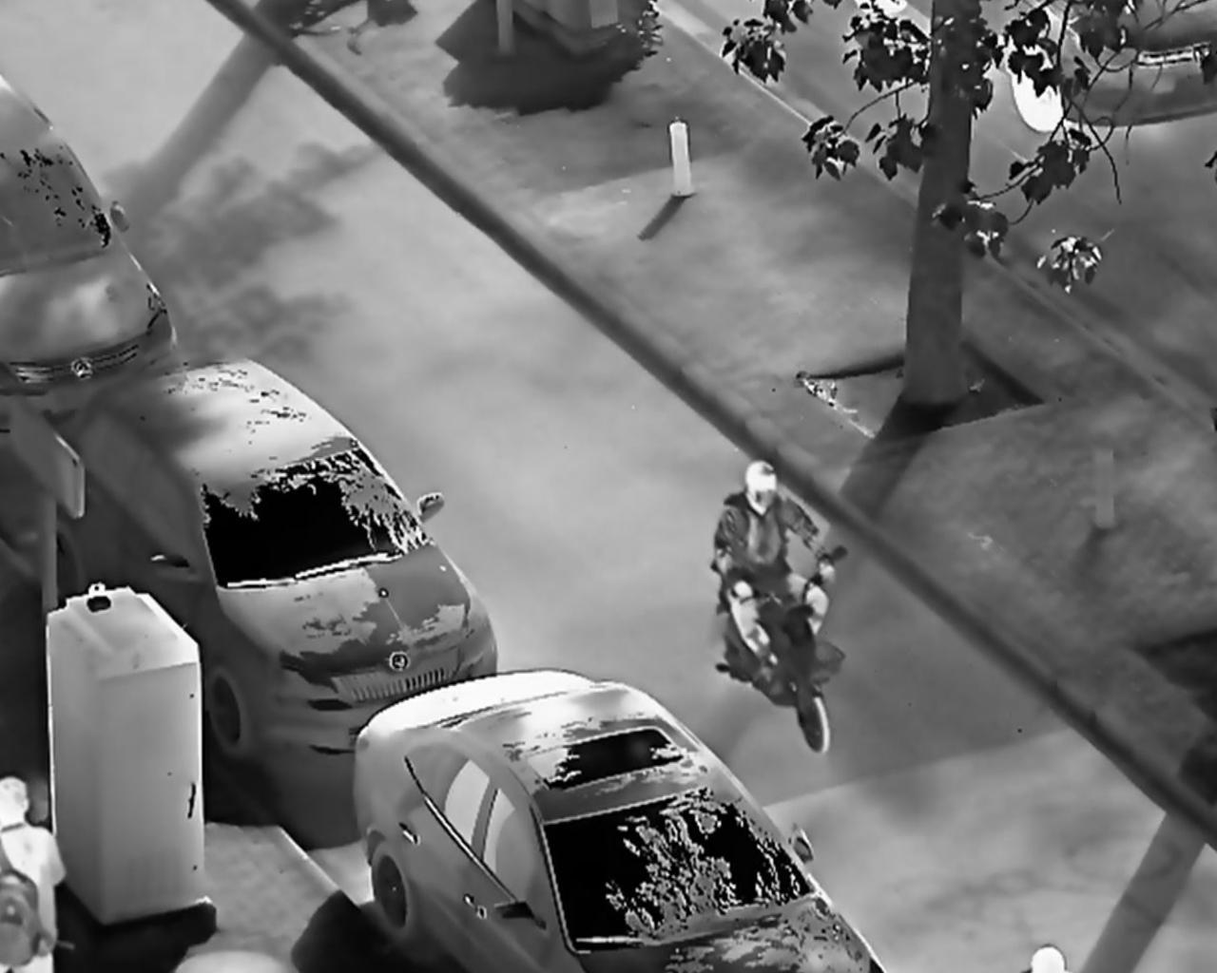person: (710, 455, 840, 685)
